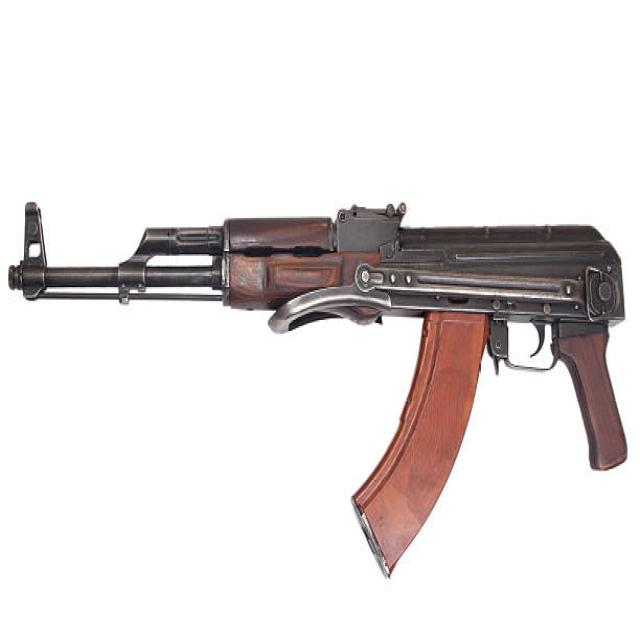rifle: (1, 174, 636, 577)
